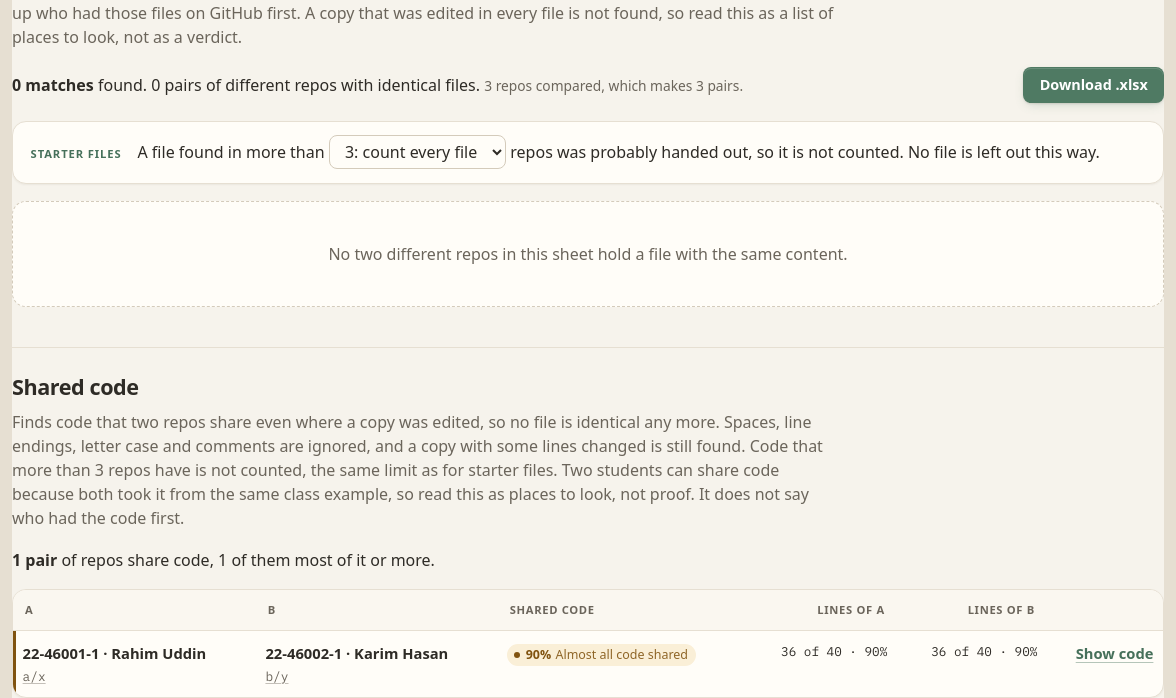
Scenario: SharedCode › opens a pair to show the files and the shared lines, linked on GitHub
This screenshot has width=1176, height=698.
(page scrolled)
Expected: the text "1 pair of repos share code, 1 of them most of it or more." is shown, [12,549,435,571]
Step 1. Click the button "Show code" → click(1115, 653), box [1076,642,1153,664]
(page scrolled)
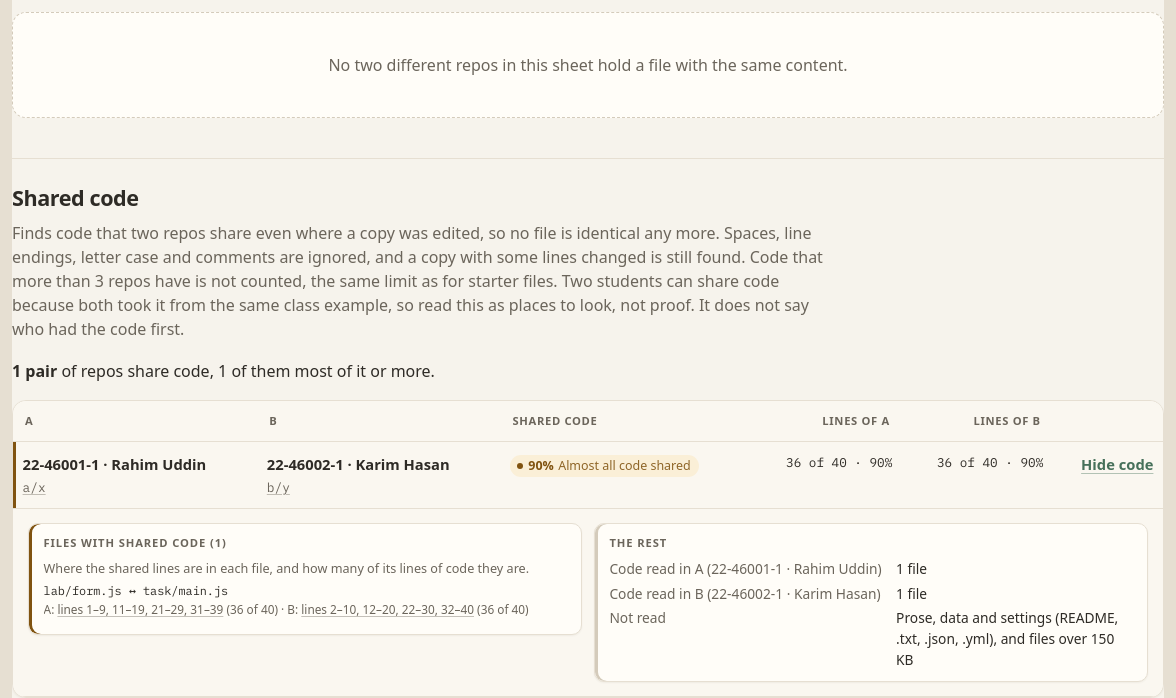
Expected: the text "lab/form.js ↔ task/main.js" is shown, [44,582,228,600]
Expected: the link "lines 1–9, 11–19, 21–29, 31–39" is shown, [57,601,223,617]
Expected: the text "1 file" is shown 2 times, [896,559,927,578]; [896,584,927,603]
